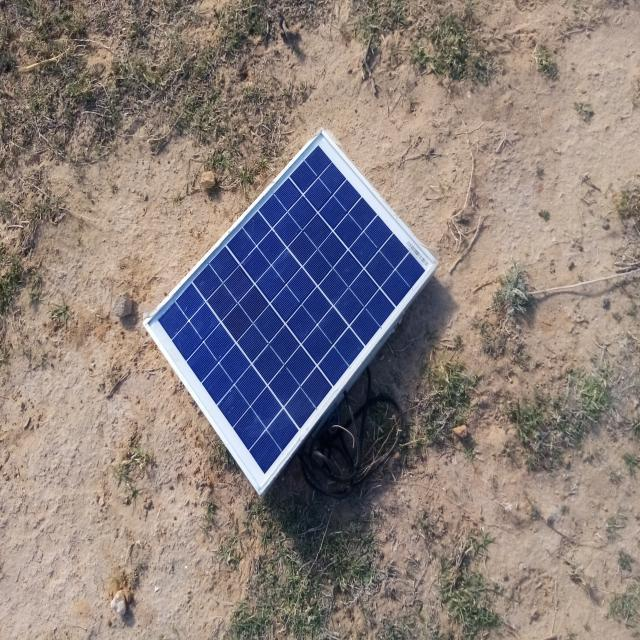Normal Solar Panel: (142, 129, 438, 494)
